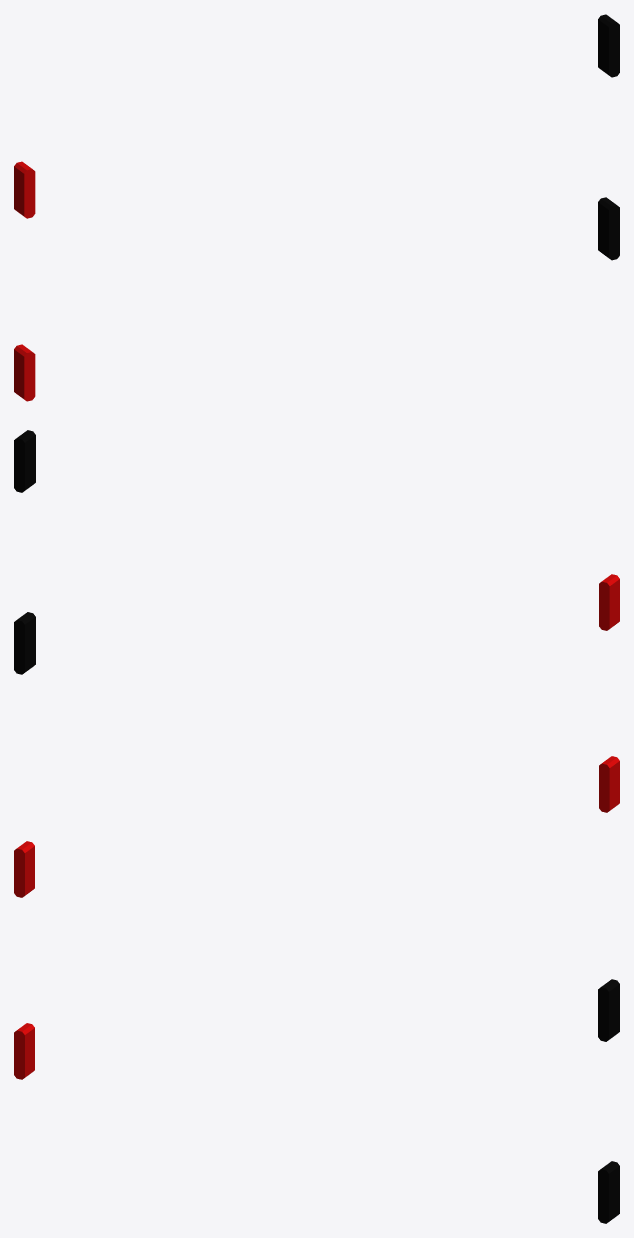
Rendered from SM_TransitSystemV1_CarCrossover_Lens.obj.
The picture shows the model from 3 angles, top to bottom: view 1: azimuth 30°, elevation 25°; view 2: azimuth 150°, elevation 25°; view 3: azimuth 330°, elevation 25°; orthographic projection.
Visible parts, largest first — view 1: Headlamp_-1, Headlamp_1, Taillamp_-1, Taillamp_1; view 2: Headlamp_1, Headlamp_-1, Taillamp_-1, Taillamp_1; view 3: Headlamp_-1, Headlamp_1, Taillamp_-1, Taillamp_1.
Part boxes in pixels (x1,y1,x2,y2): Headlamp_-1: [598, 14, 619, 77]; Headlamp_1: [598, 197, 619, 260]; Taillamp_-1: [14, 161, 35, 218]; Taillamp_1: [14, 344, 35, 401]; Headlamp_1: [14, 612, 35, 674]; Headlamp_-1: [14, 430, 35, 492]; Taillamp_-1: [599, 574, 619, 630]; Taillamp_1: [599, 756, 619, 812]; Headlamp_-1: [598, 979, 619, 1041]; Headlamp_1: [598, 1161, 619, 1223]; Taillamp_-1: [14, 841, 34, 897]; Taillamp_1: [14, 1023, 34, 1079].
Bounding box in the file's own units: 437 × 165 × 15.5.
